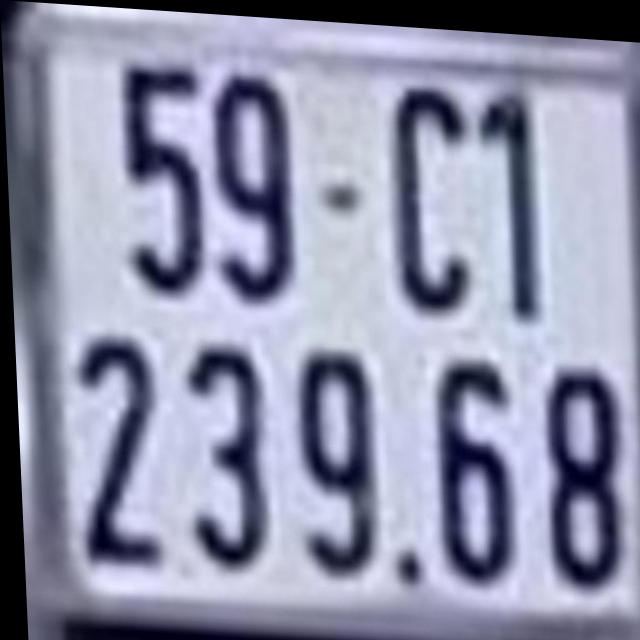1: (477, 85, 556, 314)
2: (72, 331, 164, 570)
3: (179, 337, 270, 566)
5: (121, 57, 213, 286)
6: (431, 349, 509, 573)
8: (540, 353, 621, 580)
9: (292, 344, 380, 572), (215, 64, 297, 307)
C: (384, 73, 474, 308)
